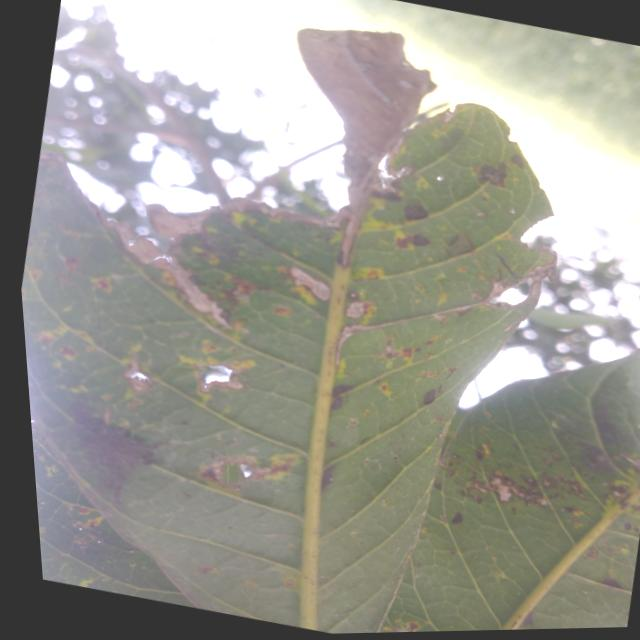Anthracnose: (465, 156, 513, 194), (372, 334, 421, 367), (397, 201, 431, 228)
Bacterial Cancer: (59, 178, 279, 362), (275, 21, 437, 197), (276, 262, 379, 334), (475, 258, 548, 317)
